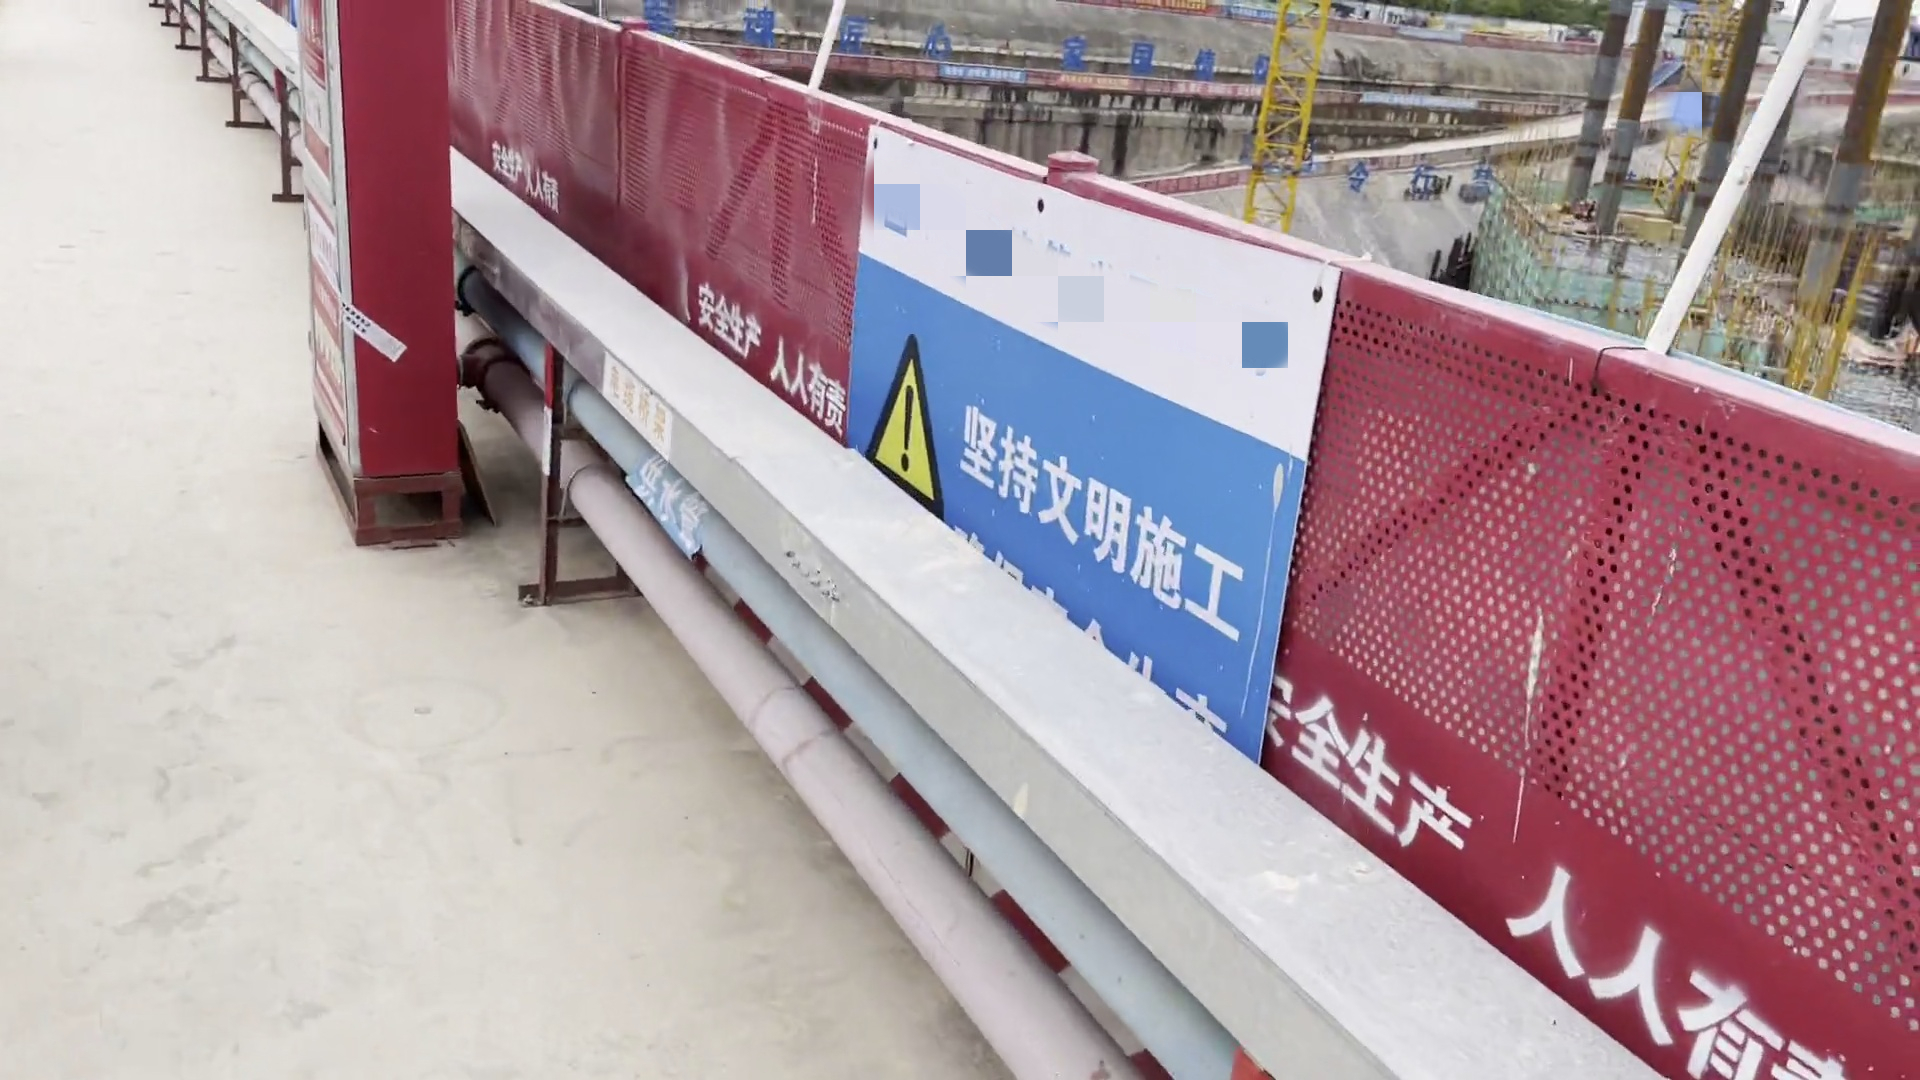fence: (911, 131, 1920, 1077), (450, 1, 927, 480)
slogan: (815, 108, 1329, 775), (284, 4, 363, 419), (1172, 70, 1276, 108), (1056, 66, 1149, 99), (1149, 4, 1283, 26), (934, 65, 1033, 84)
